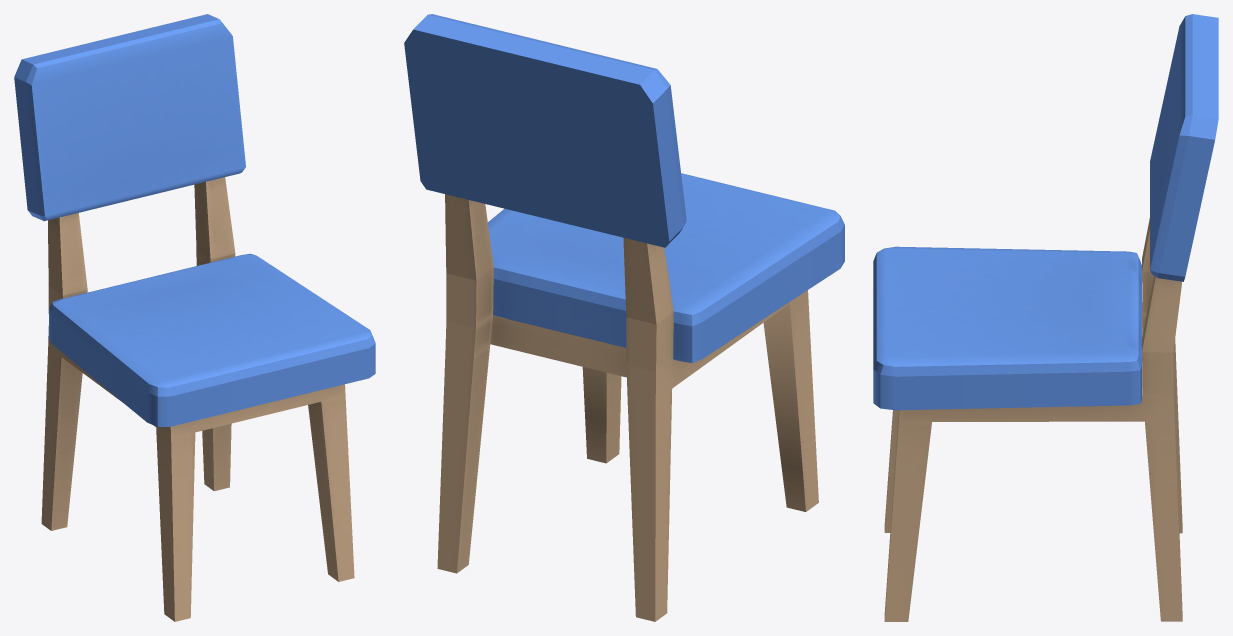
File: Chiar_Blue.fbx
3 views of the same model, side by side, from view 1: azimuth 30°, elevation 25°; view 2: azimuth 150°, elevation 25°; view 3: azimuth 270°, elevation 25° (orthographic). The views are drawn at different scales.
Parts seen in each view (by area): view 1: Chair_Blue; view 2: Chair_Blue; view 3: Chair_Blue.
Part boxes in pixels (<box>): Chair_Blue: <box>14,14,375,621</box>; Chair_Blue: <box>404,14,844,621</box>; Chair_Blue: <box>873,14,1218,621</box>.
Size of the model in its own units: 48.17 by 93.48 by 57.54.
